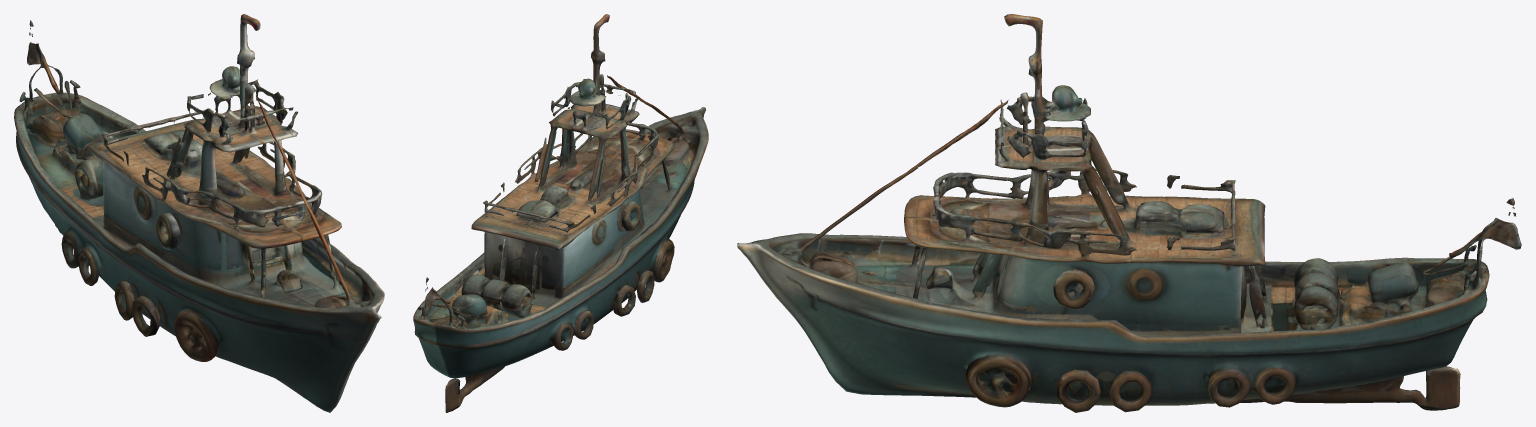
Rendered from destroyer.glb.
The picture shows the model from 3 angles, left to right: view 1: azimuth 30°, elevation 25°; view 2: azimuth 150°, elevation 25°; view 3: azimuth 270°, elevation 25°; orthographic projection. The views are drawn at different scales.
Bounding box in the file's own units: 0.5632 × 1.11 × 2.
1 material, 1 textured.
